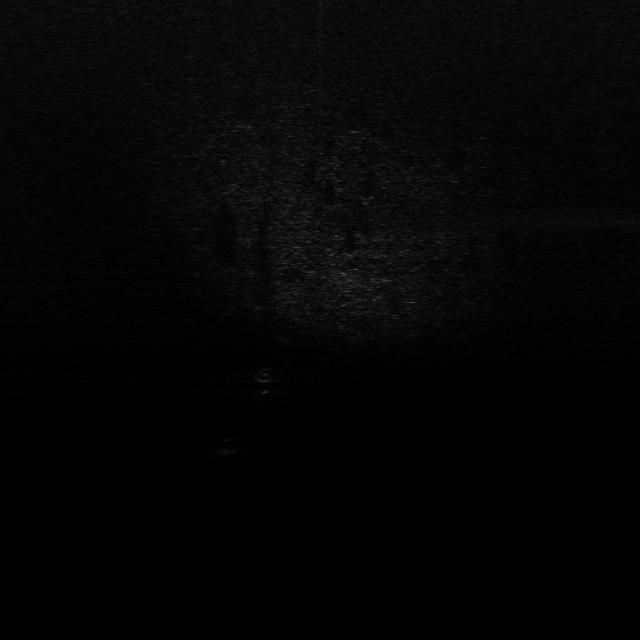ball: (213, 434, 243, 457)
human body: (249, 359, 282, 396)
